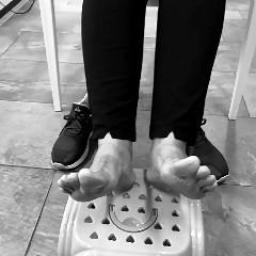Front View -Both Feet-: (51, 92, 223, 223)
